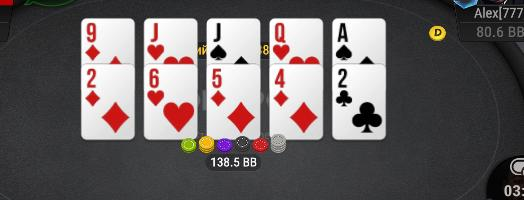2c: (333, 66, 386, 139)
2d: (82, 66, 134, 139)
4d: (270, 66, 323, 136)
5d: (207, 66, 260, 137)
6h: (145, 66, 197, 137)
9d: (82, 20, 134, 64)
As: (333, 20, 383, 64)
Jh: (145, 20, 196, 63)
Js: (208, 20, 260, 64)
Qh: (271, 20, 323, 64)
